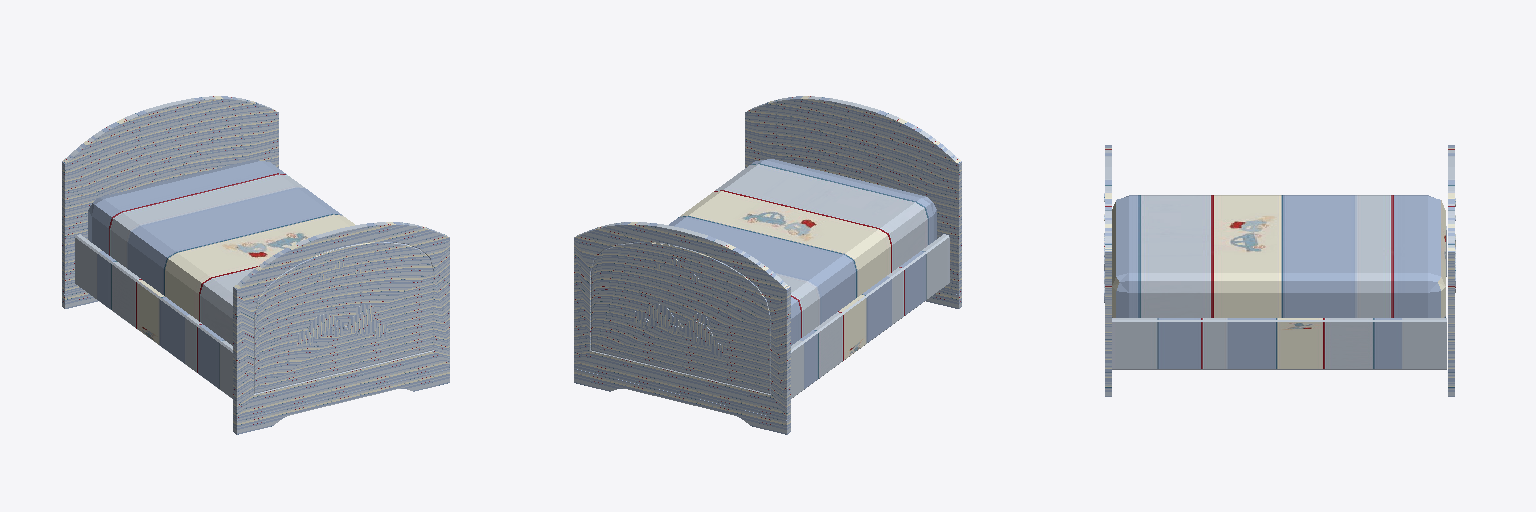
The picture shows the model from 3 angles: view 1: azimuth 30°, elevation 25°; view 2: azimuth 150°, elevation 25°; view 3: azimuth 270°, elevation 25°; orthographic projection.
Parts seen in each view (by area): view 1: Rectangle01; view 2: Rectangle01; view 3: Rectangle01.
Part boxes in pixels (x1,y1,x2,y2): Rectangle01: (62, 96, 449, 434); Rectangle01: (574, 96, 961, 434); Rectangle01: (1104, 145, 1455, 396).
Bounding box in the file's own units: 918 × 731 × 1316.
1 materials, 1 textured.